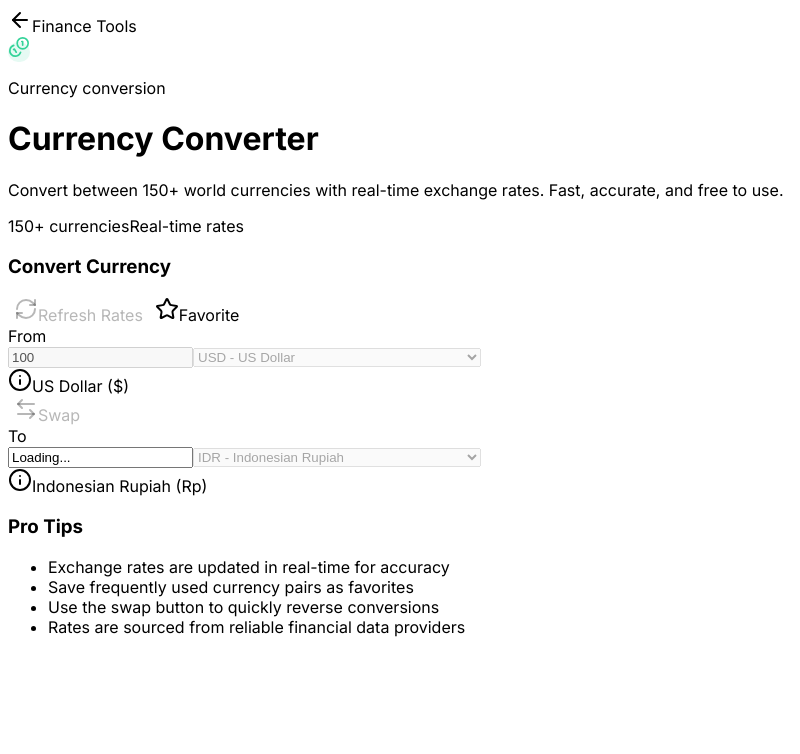
Scenario: Currency Converter Page › Currency Conversion › handles zero input correctly
The image size is (800, 754).
Replace the text in the field with placeholder "Enter amount" with "0" at [100, 358], box [8,347,193,368]
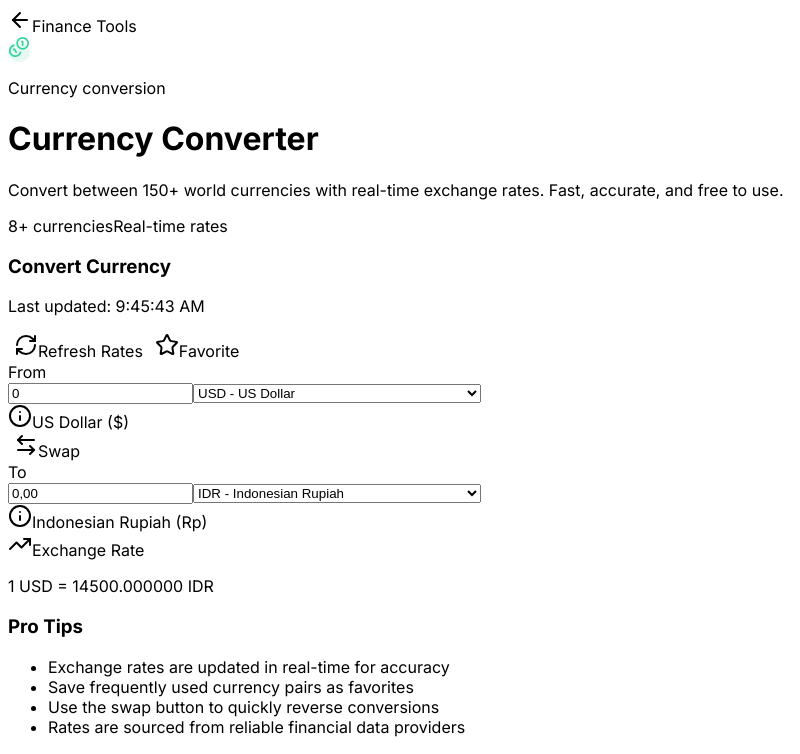
Expected: the field with placeholder "Result" holds "0,00", [8,483,193,504]
